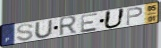E: (80, 12, 99, 34)
P: (126, 6, 144, 26)
R: (58, 15, 79, 38)
S: (16, 23, 35, 42)
U: (103, 8, 127, 30), (34, 19, 54, 39)
